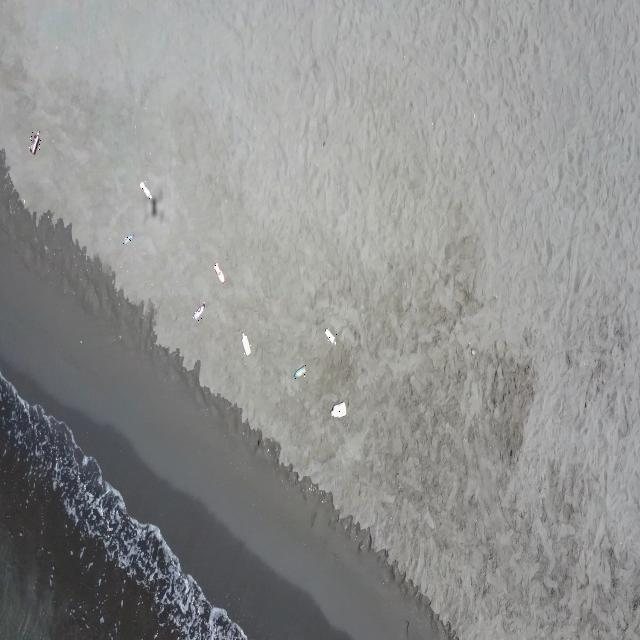Garbage: (28, 131, 40, 154), (292, 364, 306, 379), (192, 303, 204, 320), (213, 263, 223, 283), (140, 181, 151, 199), (324, 327, 335, 344), (241, 332, 249, 355), (331, 402, 344, 415), (121, 233, 132, 243), (472, 347, 475, 355)
